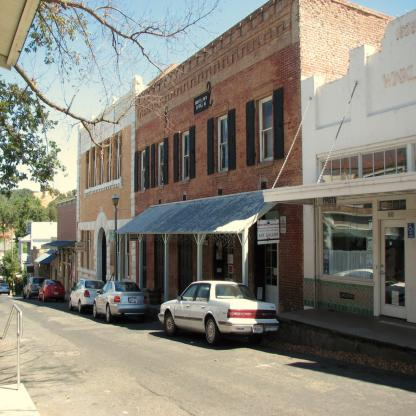Car: (159, 281, 280, 343), (93, 283, 147, 324), (70, 281, 104, 314), (39, 277, 65, 301), (24, 279, 46, 299), (1, 284, 12, 296)
